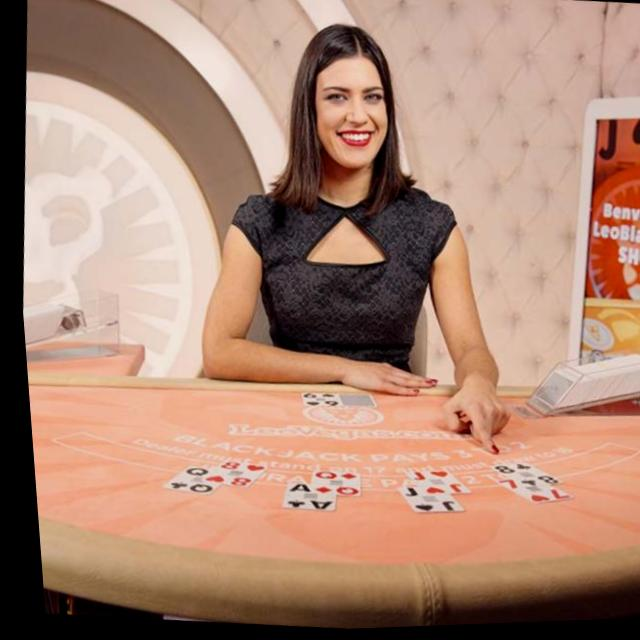Card-6: (295, 394, 334, 408)
Card-7: (488, 481, 564, 507)
Card-8: (196, 461, 259, 490), (484, 465, 554, 491)
Card-A: (273, 483, 327, 513)
Card-J: (390, 489, 455, 515), (397, 473, 463, 497)
Card-Q: (153, 467, 212, 495), (302, 472, 352, 498)
